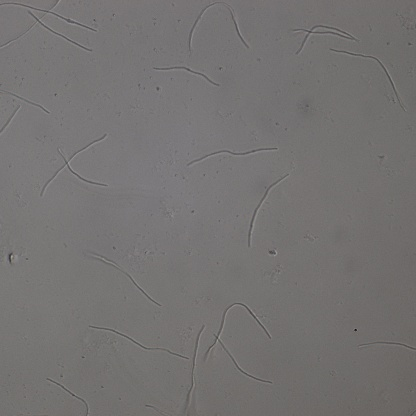Sensitive: (205, 300, 273, 385), (1, 1, 96, 54), (331, 48, 406, 110), (87, 249, 160, 307), (40, 134, 107, 193), (88, 324, 189, 360), (247, 173, 289, 248), (188, 2, 248, 51), (292, 21, 358, 56), (187, 144, 278, 165), (46, 377, 90, 416), (184, 325, 204, 410), (1, 89, 50, 114), (154, 67, 218, 86), (358, 338, 416, 350)
